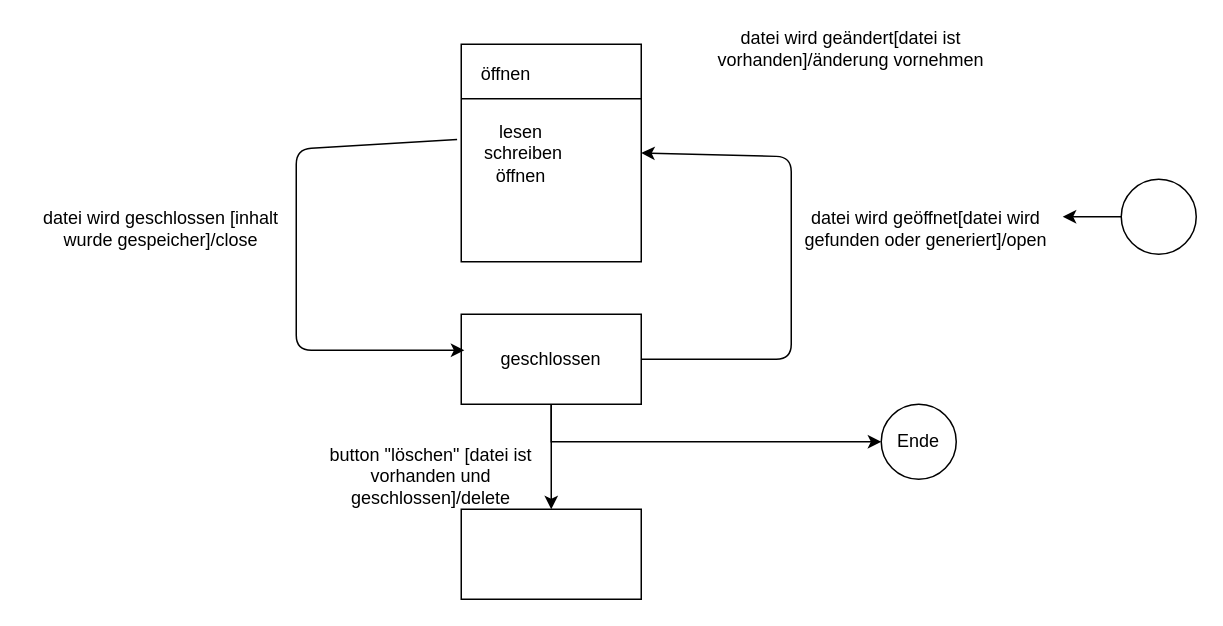
Image size: 1223x626. Some labels were removed from this diagram. The shapes that lost their labels are listed below. From the top down, each one's box as (x1, y1, x2, y2) in pixels, then its label:
(1120, 178, 1196, 254): Start
(460, 508, 641, 599): gelöscht
